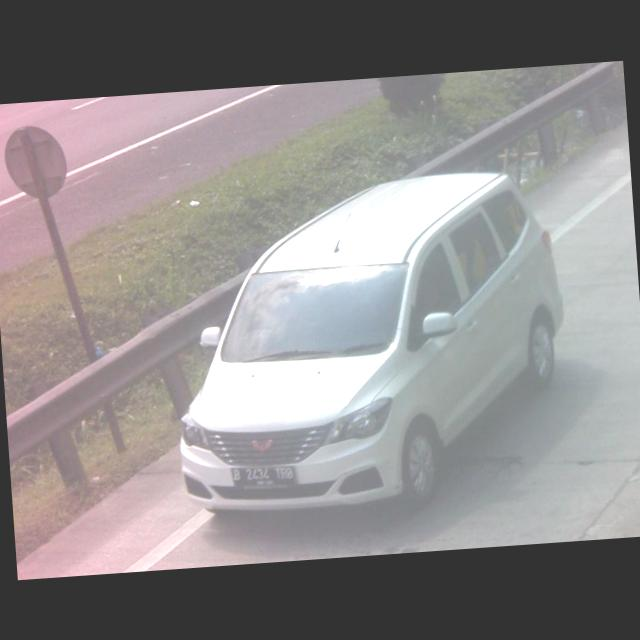plate: (227, 460, 301, 493)
